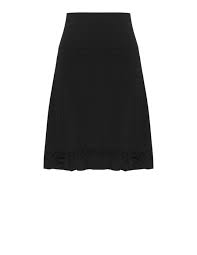S_skirt: (33, 10, 155, 178)
